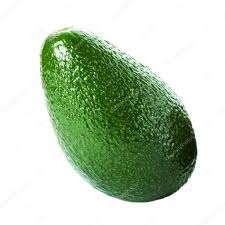abacate: (41, 25, 198, 203)
